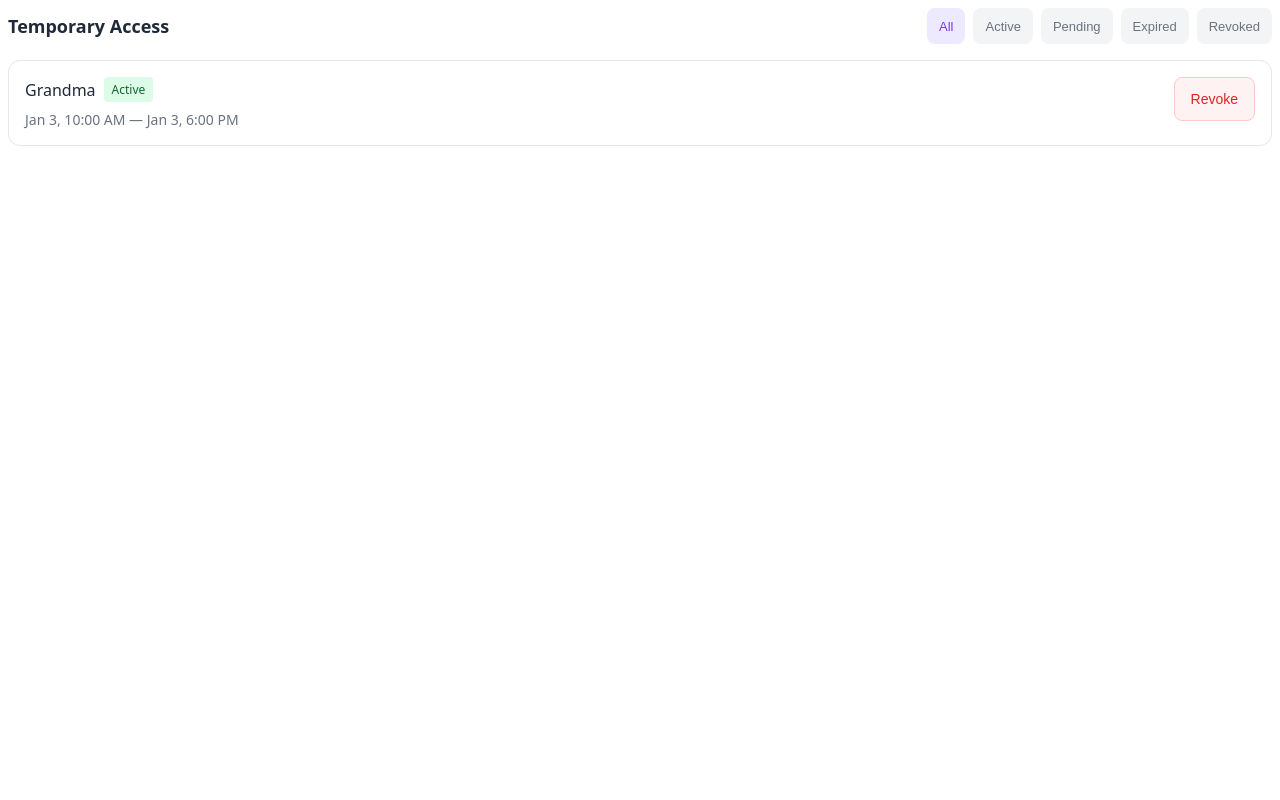
TemporaryAccessList › Revocation Modal (AC5) › opens modal when revoke button clicked
Click the button with test id "revoke-grant-123" at (1214, 99), box [1174,77,1255,121]
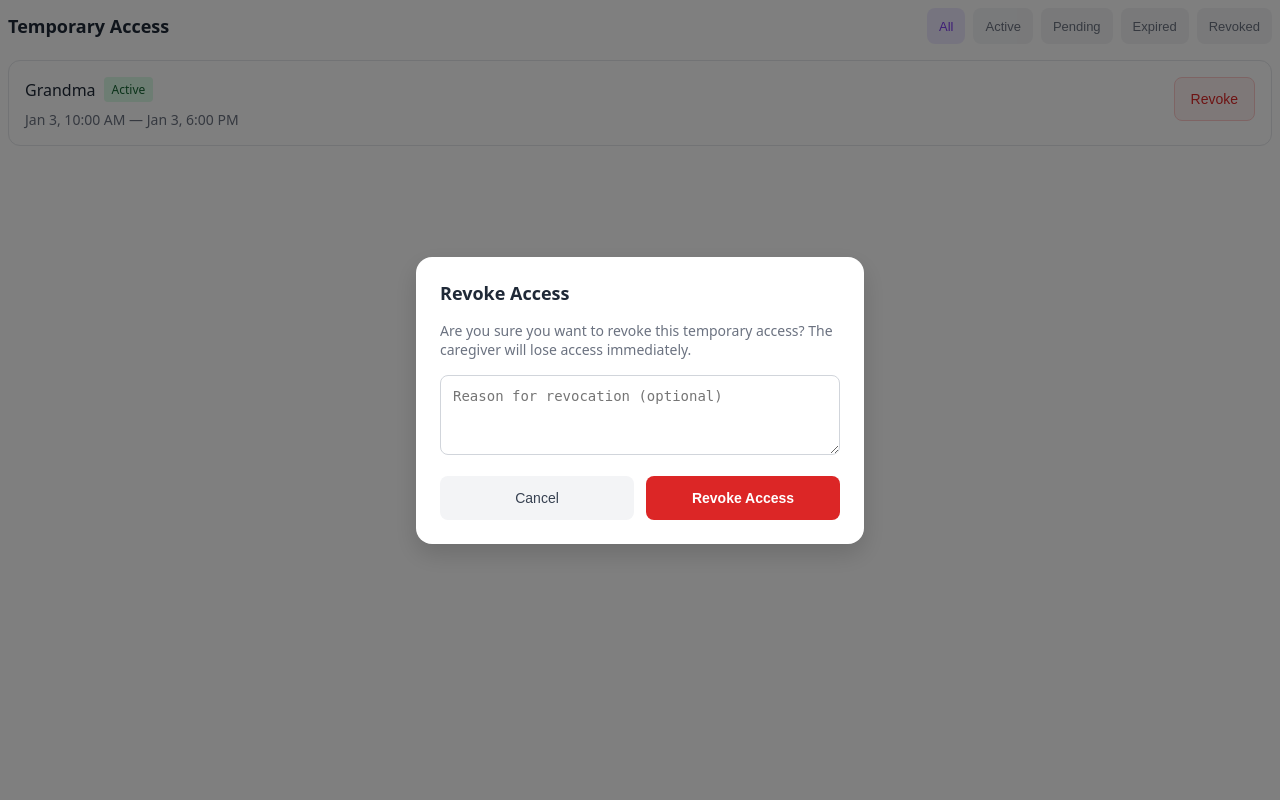
Now the element with test id "revoke-modal" is shown
